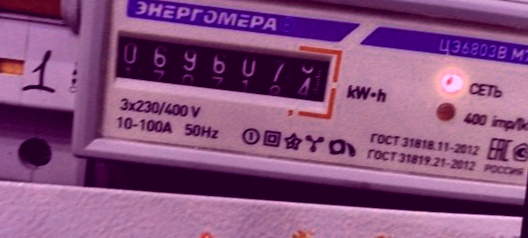0: (120, 38, 140, 64), (239, 51, 257, 77)
4: (294, 73, 313, 98)
6: (209, 48, 229, 74), (150, 42, 169, 68)
7: (268, 56, 286, 84)
9: (179, 46, 198, 71)
screen: (97, 14, 347, 117)
